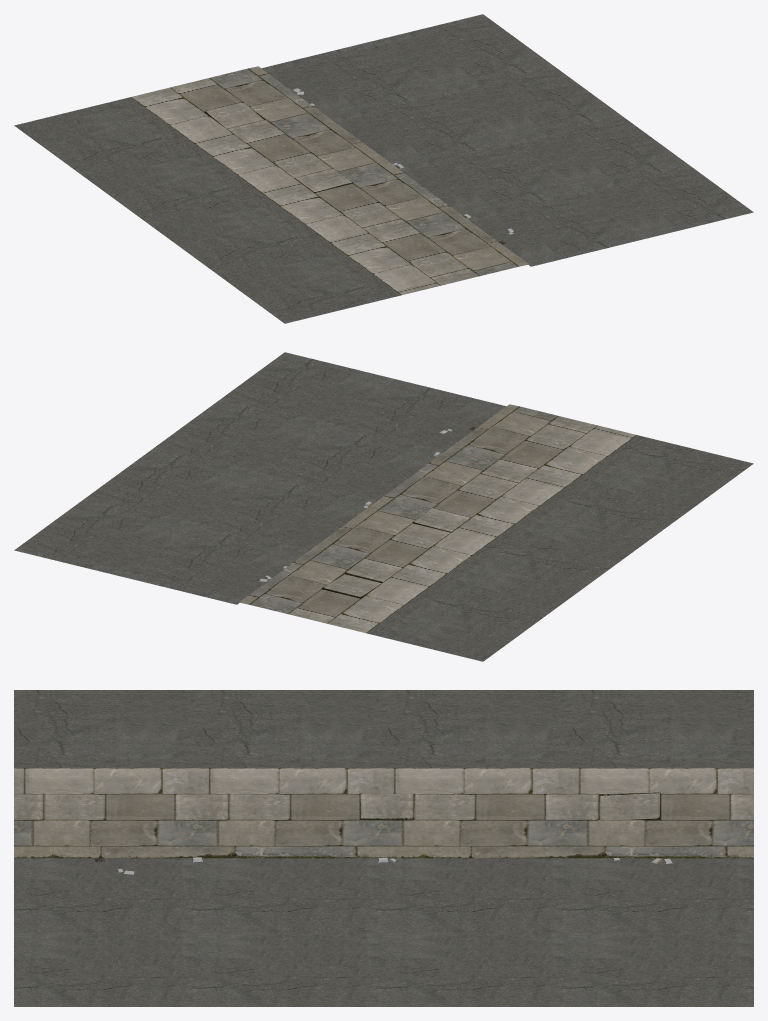
File: bz_road_01.fbx
The picture shows the model from 3 angles, top to bottom: view 1: azimuth 30°, elevation 25°; view 2: azimuth 150°, elevation 25°; view 3: azimuth 270°, elevation 25°; orthographic projection. The views are drawn at different scales.
Parts seen in each view (by area): view 1: bz_road_01.001; view 2: bz_road_01.001; view 3: bz_road_01.001.
Boxes of the visible parts, x1,y1,x2,y2 form: bz_road_01.001: [14, 14, 753, 323]; bz_road_01.001: [14, 352, 753, 661]; bz_road_01.001: [14, 690, 753, 1006].
Size of the model in its own units: 800 by 8.63 by 800.
